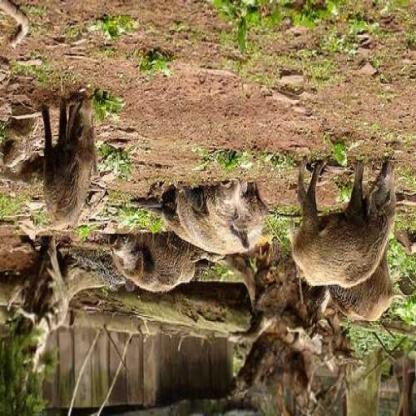boar: (150, 134, 325, 248), (278, 158, 415, 301), (11, 66, 112, 254), (94, 233, 201, 296)
